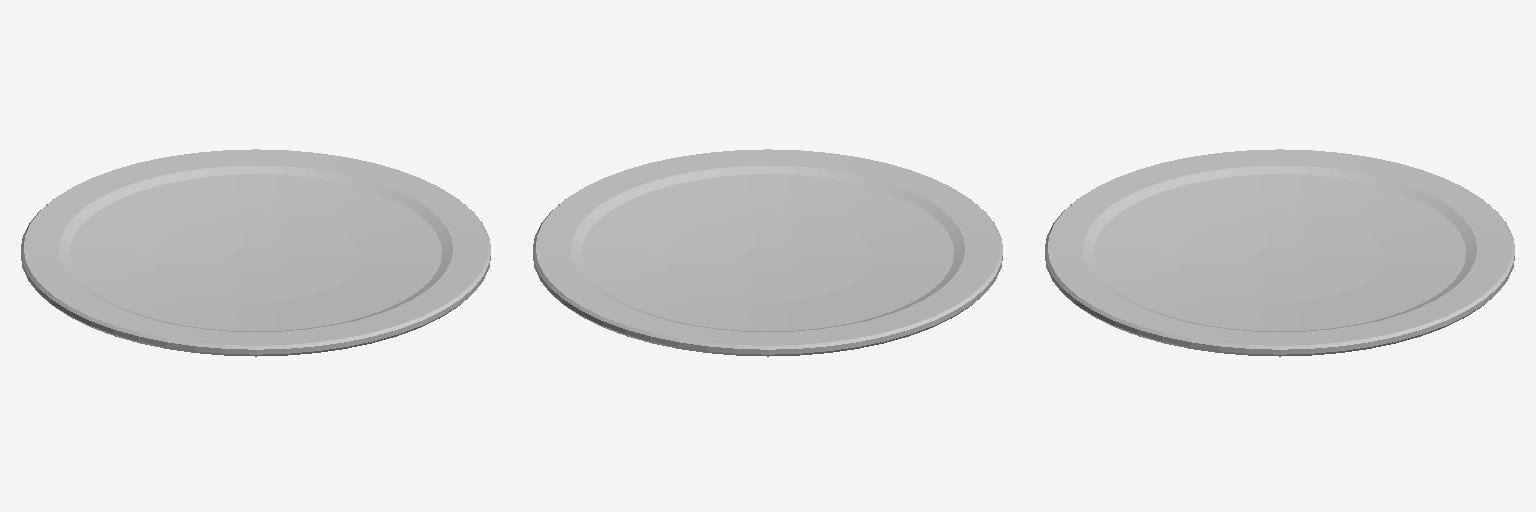
The model's file is Plate.obj.
The picture shows the model from 3 angles: view 1: azimuth 30°, elevation 25°; view 2: azimuth 150°, elevation 25°; view 3: azimuth 270°, elevation 25°; orthographic projection.
Parts seen in each view (by area): view 1: Plate; view 2: Plate; view 3: Plate.
Boxes of the visible parts, box(x1,y1,x2,y2) form: Plate: box(21, 149, 490, 356); Plate: box(533, 149, 1002, 356); Plate: box(1045, 149, 1514, 356).
Bounding box in the file's own units: 0.38 × 0.0149 × 0.38.